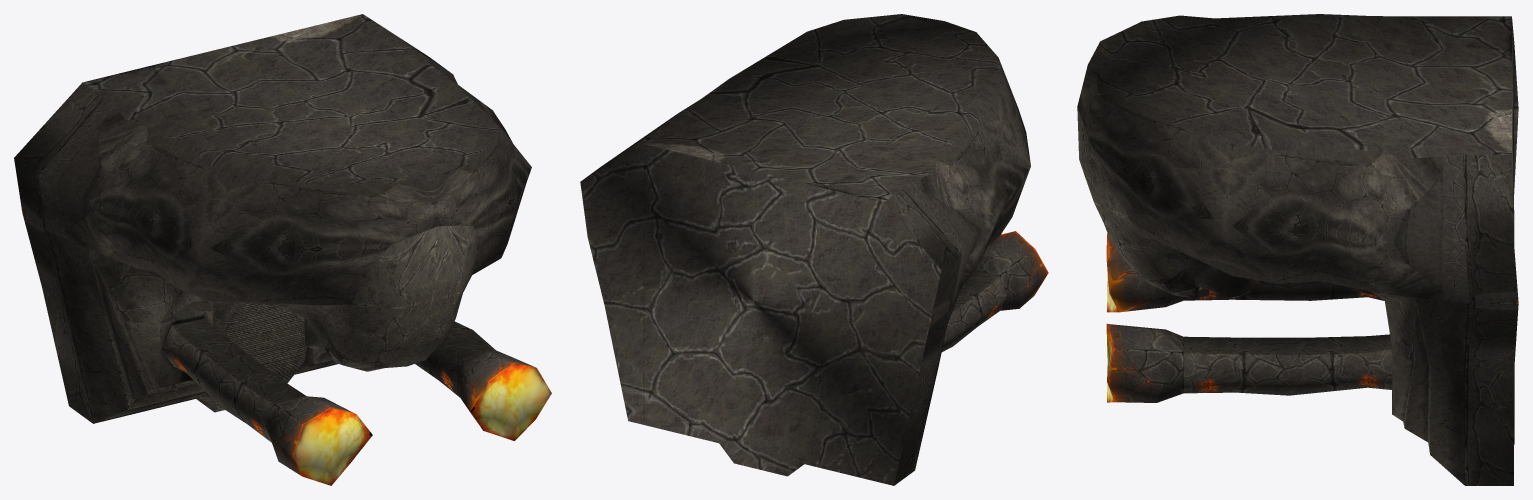
Rendered from Altar-gate-01.obj.
The picture shows the model from 3 angles, left to right: view 1: azimuth 30°, elevation 25°; view 2: azimuth 150°, elevation 25°; view 3: azimuth 270°, elevation 25°; orthographic projection. The views are drawn at different scales.
Visible parts, largest first — view 1: (null); view 2: (null); view 3: (null).
Part boxes in pixels (x1,y1,x2,y2): (null): (14,14,551,485); (null): (580,14,1048,485); (null): (1077,14,1518,485).
Size of the model in its own units: 12.98 by 10.85 by 11.82.
